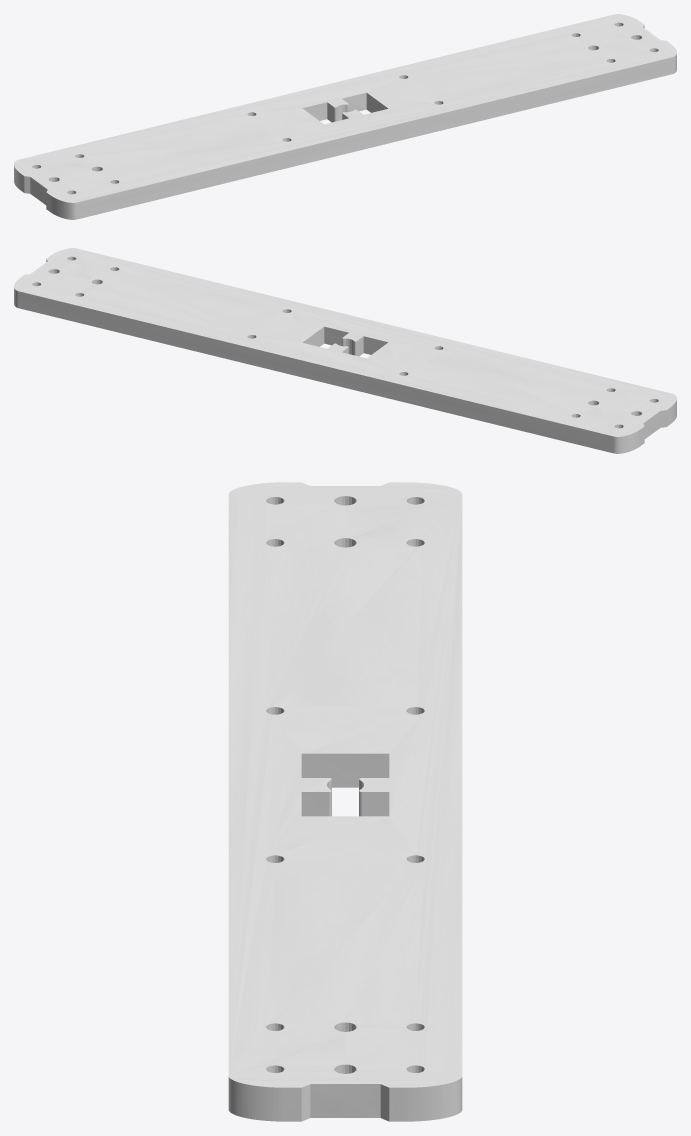
The model's file is xtion_base.dae.
3 views of the same model, one above another, from view 1: azimuth 30°, elevation 25°; view 2: azimuth 150°, elevation 25°; view 3: azimuth 270°, elevation 25° (orthographic). The views are drawn at different scales.
Visible parts, largest first — view 1: node; view 2: node; view 3: node.
Part boxes in pixels (x1,y1,x2,y2): node: (14,14,676,219); node: (14,248,676,453); node: (228,482,462,1121).
Size of the model in its own units: 245 by 6.4 by 40.
Materials: 1 (1 with a texture image).
